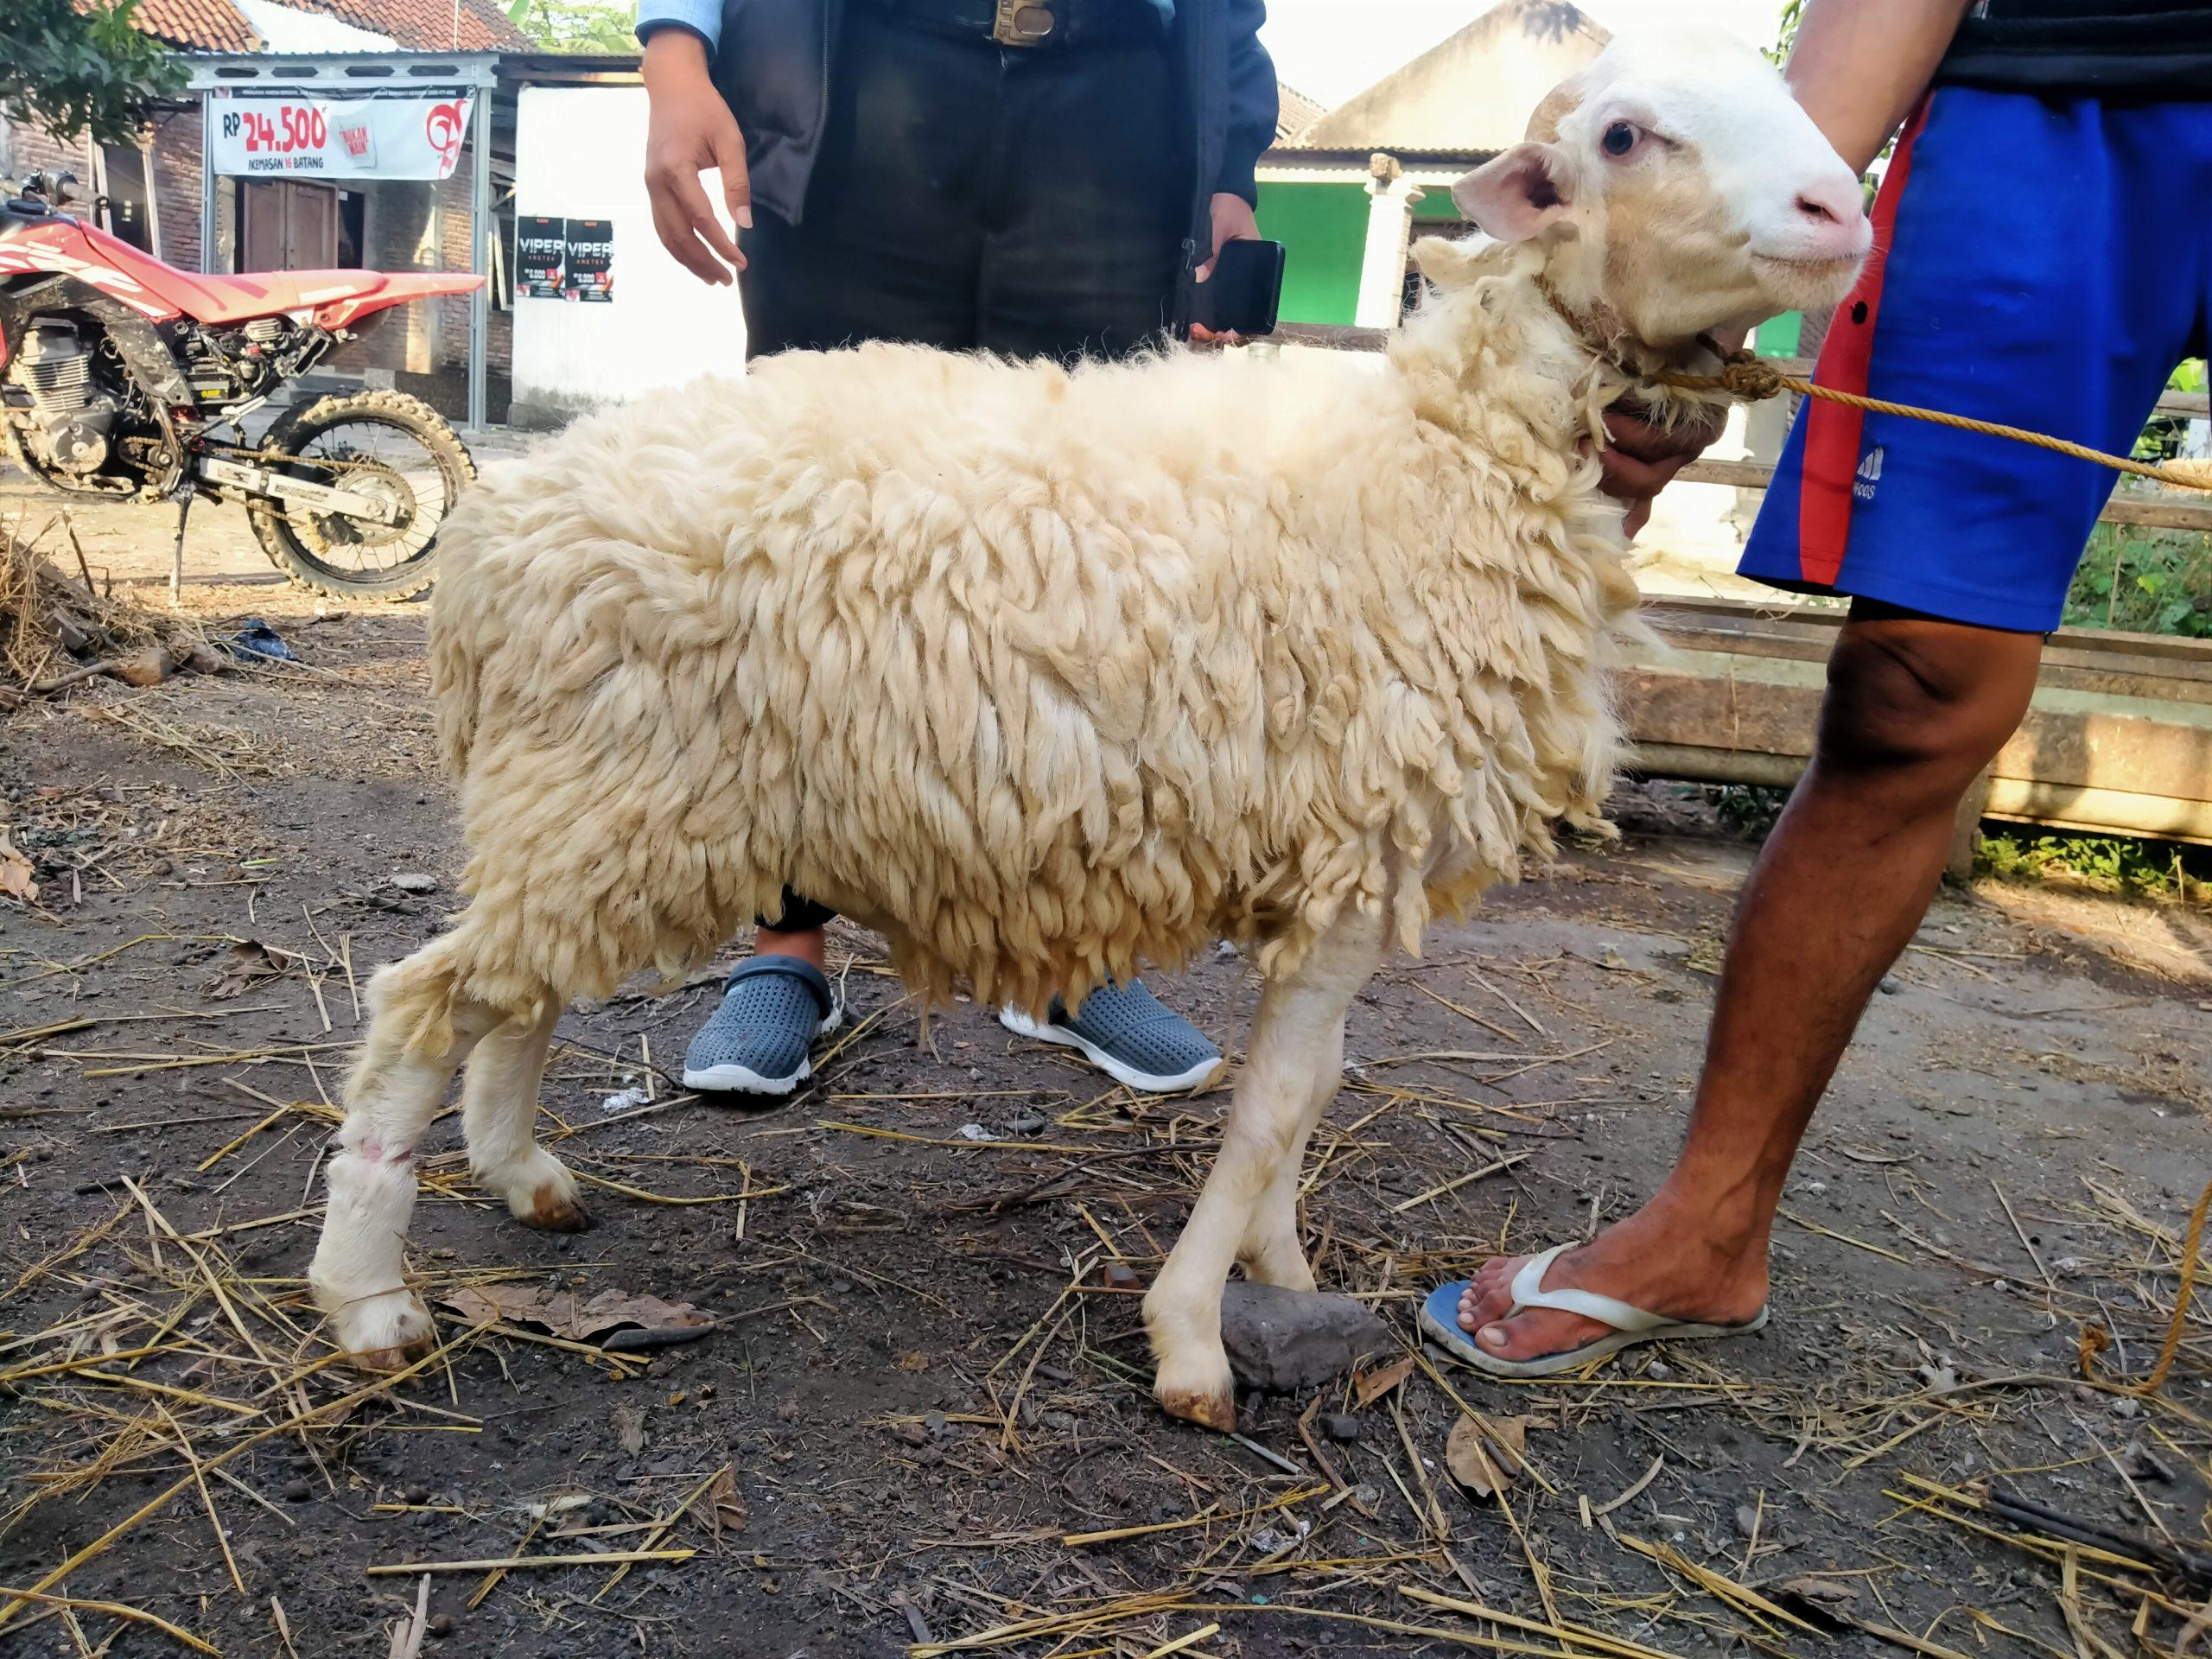Sheep: (1404, 7, 1914, 497)
